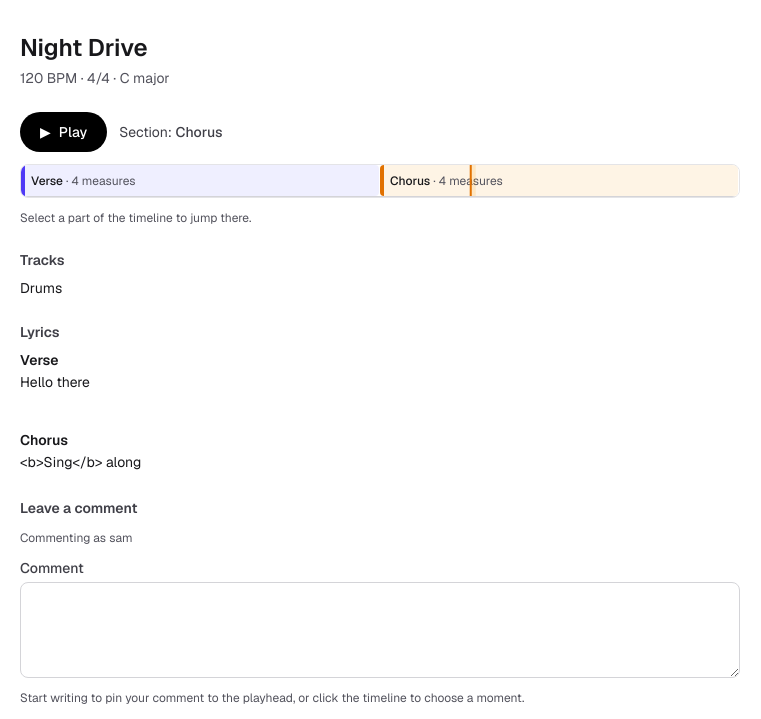
Test: Comments › keeps the text and switches to sign-in when the session has expired
Check: the heading "Night Drive" is shown, box [20, 32, 148, 63]
Check: the text "Commenting as sam" is shown, box [20, 530, 132, 546]
In the text box labelled "Comment": (380, 630) [20, 582, 740, 678], type "Please keep me"
(page scrolled)
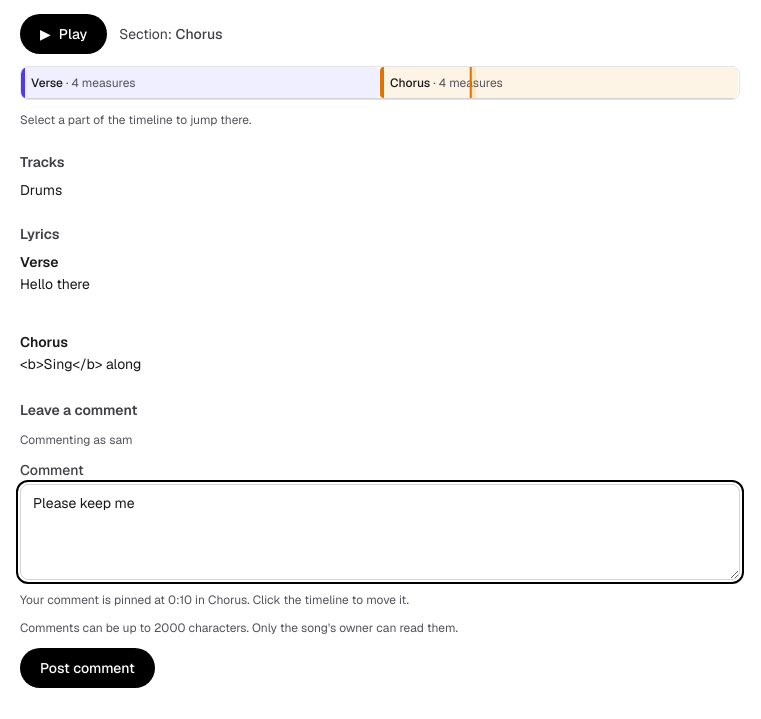
Click the button "Post comment": (87, 668) [20, 648, 155, 688]
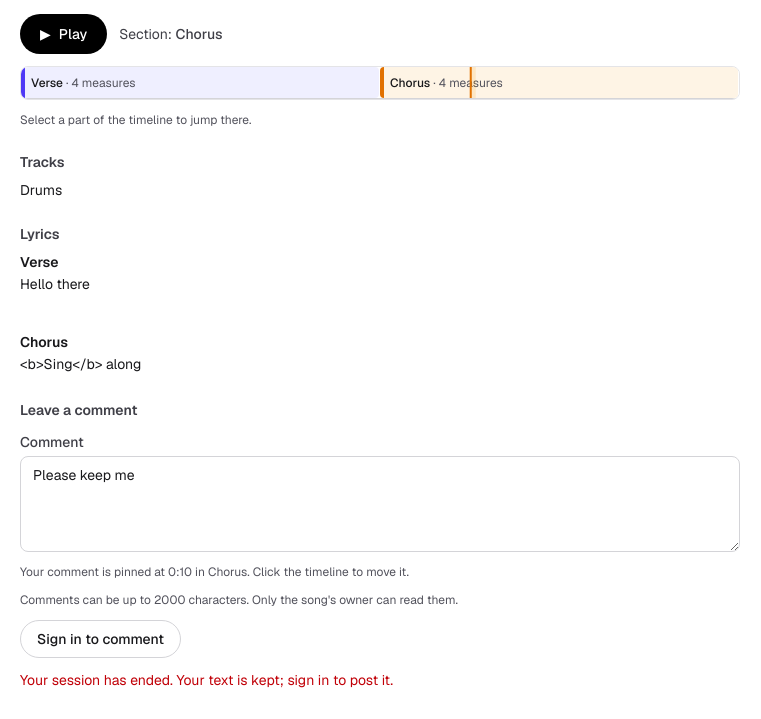
Check: the link "Sign in to comment" is shown, box [20, 620, 181, 658]
Check: the button "Post comment" is gone
